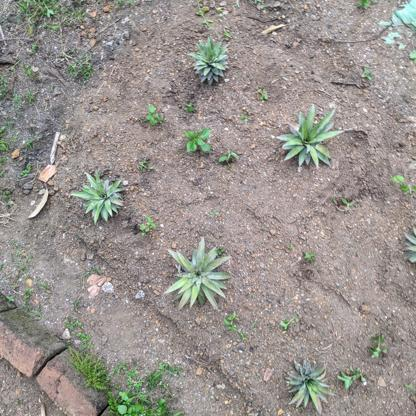pineapple: (160, 236, 233, 310), (270, 103, 346, 174), (71, 168, 128, 223), (284, 355, 335, 409), (188, 35, 233, 89)
weed: (183, 124, 237, 169), (337, 362, 370, 396), (369, 332, 397, 363), (141, 103, 168, 131)
